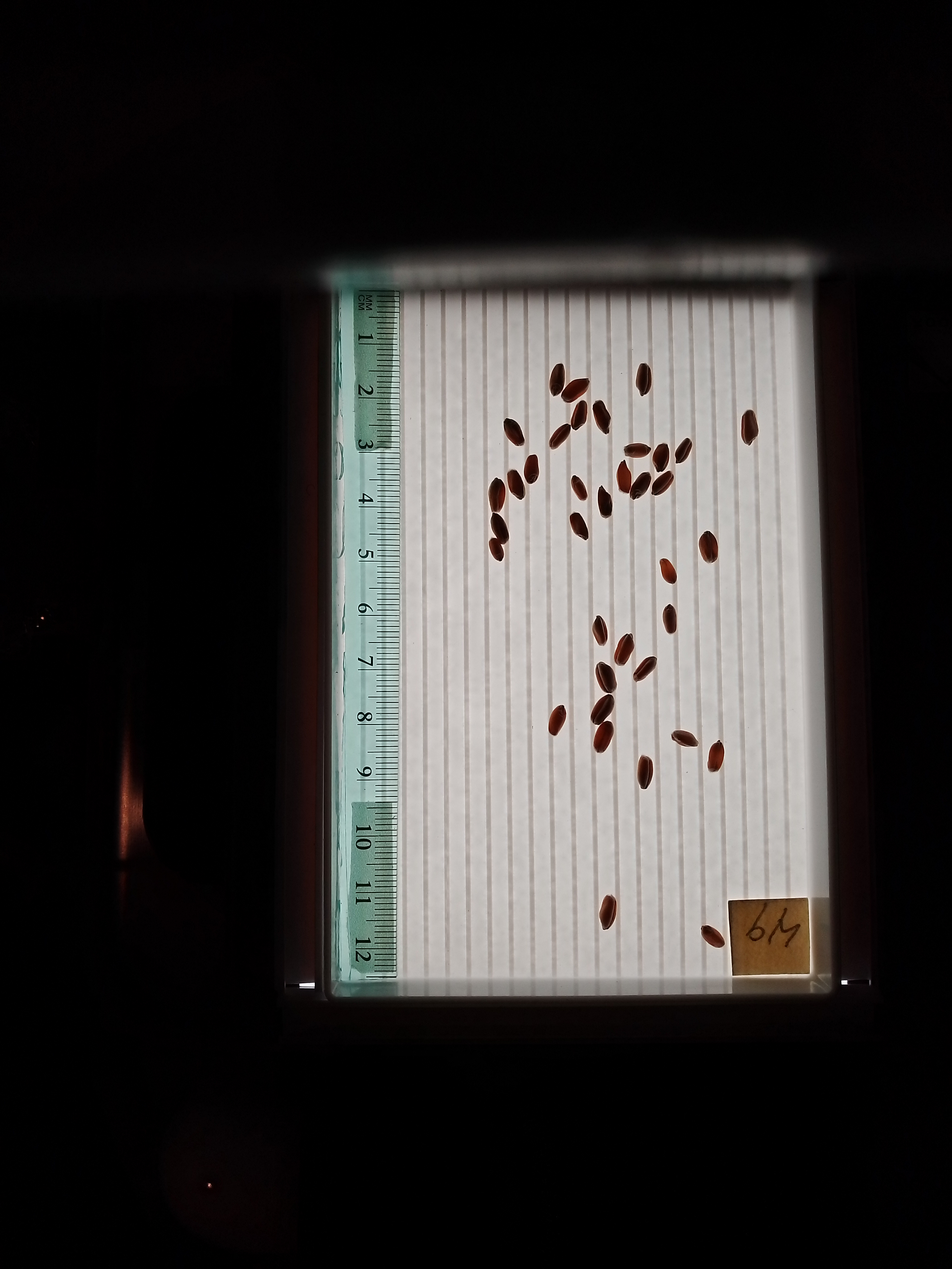seed mask: (591, 695, 614, 724), (562, 378, 589, 402), (699, 531, 718, 564), (599, 896, 617, 930), (741, 410, 758, 446), (488, 478, 506, 512), (633, 656, 656, 682), (594, 722, 613, 753), (615, 634, 634, 665), (596, 664, 616, 693), (504, 418, 524, 446), (637, 756, 653, 790), (593, 401, 610, 433), (707, 742, 725, 772), (701, 925, 724, 948), (652, 472, 674, 496), (631, 473, 651, 499), (550, 424, 570, 450), (549, 705, 566, 735), (507, 470, 525, 498), (636, 364, 652, 395), (571, 401, 588, 430), (570, 513, 588, 540), (550, 364, 565, 396), (653, 444, 670, 472), (491, 515, 508, 543), (675, 438, 692, 464), (662, 605, 677, 634), (598, 488, 613, 517), (524, 455, 539, 484), (672, 730, 697, 747), (660, 559, 677, 584), (617, 463, 631, 492), (593, 617, 608, 644), (572, 476, 587, 501), (625, 443, 650, 457), (490, 538, 504, 560)
